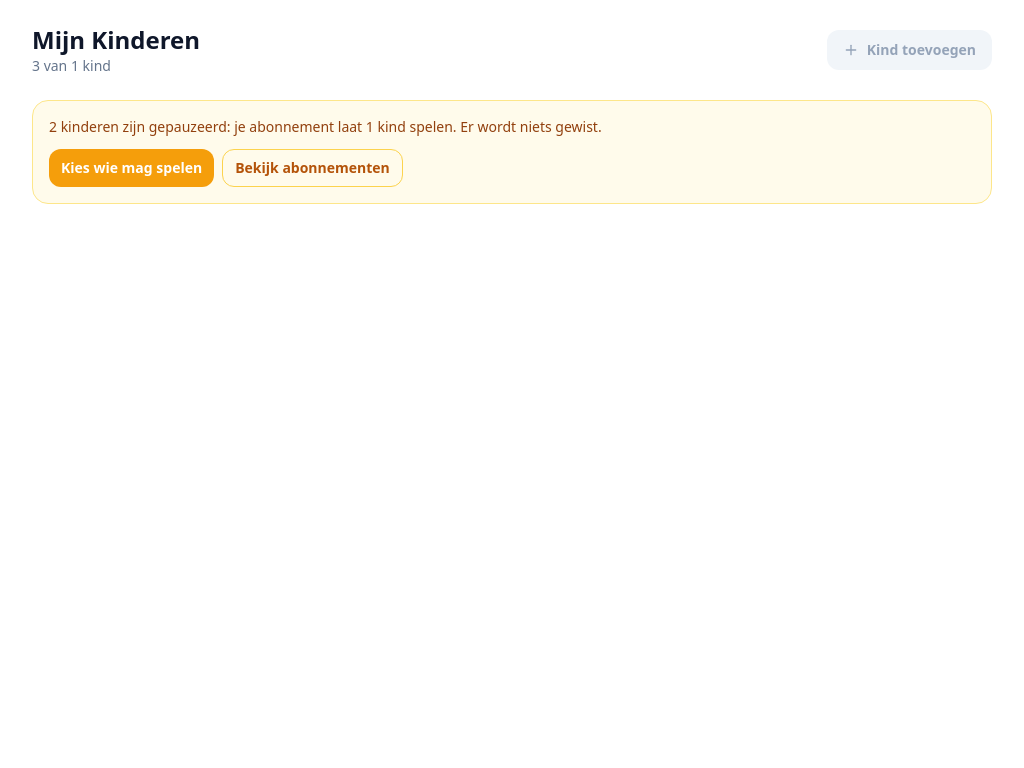
ParentChildren › paused children › lets the parent choose who keeps playing, no more than the package allows
The width and height of the screenshot is (1024, 768).
Later steps or results of the test are not shown.
Click the button "Kies wie mag spelen": (132, 168) [49, 149, 214, 187]
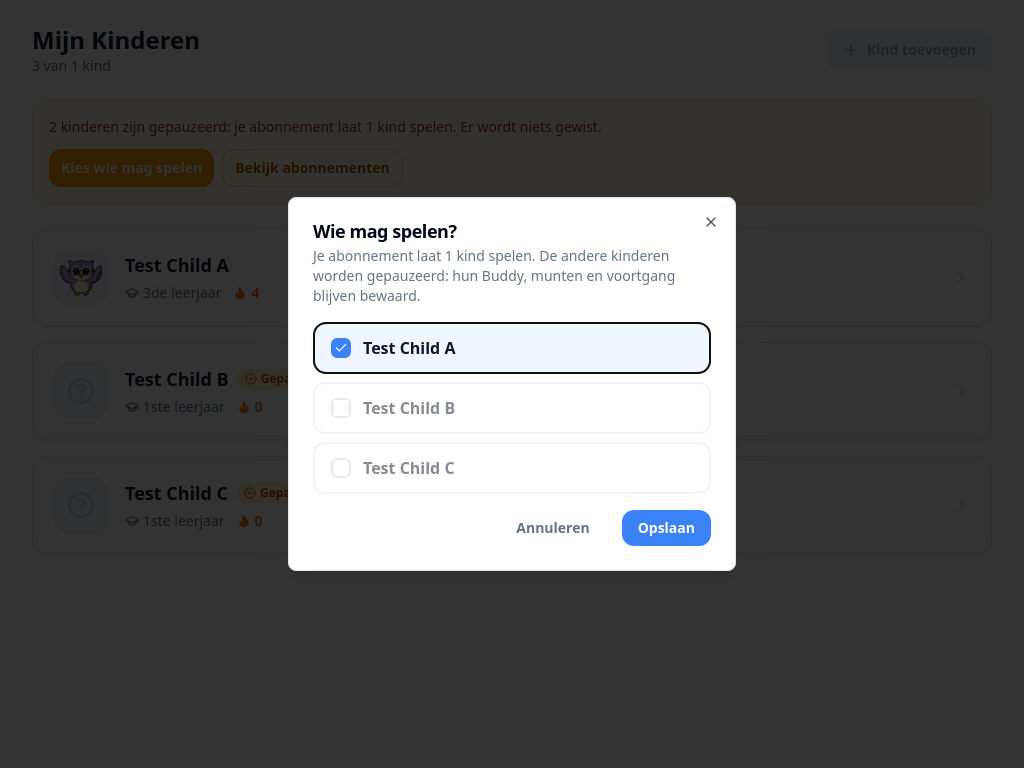
Now the checkbox labelled "Test Child B" is disabled, box [313, 382, 711, 434]
